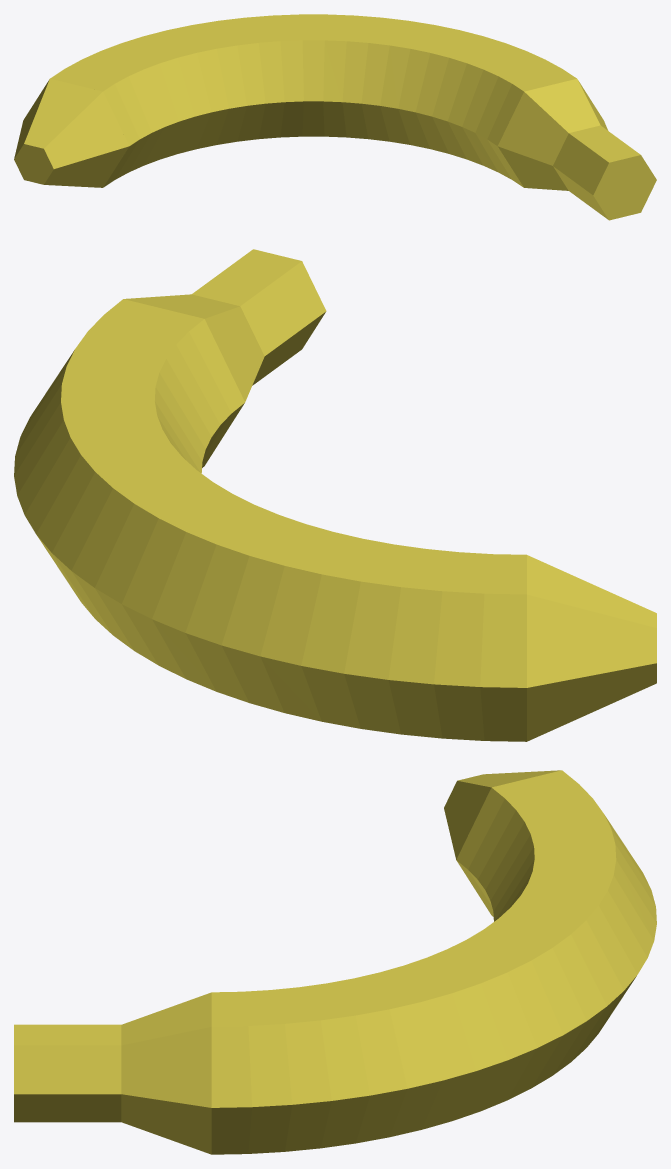
Rendered from banana.glb.
The picture shows the model from 3 angles, top to bottom: view 1: azimuth 30°, elevation 25°; view 2: azimuth 150°, elevation 25°; view 3: azimuth 270°, elevation 25°; orthographic projection. The views are drawn at different scales.
Visible parts, largest first — view 1: Mesh_Mesh_head_geo.001_lambert2SG.001; view 2: Mesh_Mesh_head_geo.001_lambert2SG.001; view 3: Mesh_Mesh_head_geo.001_lambert2SG.001.
Part boxes in pixels (<box>): Mesh_Mesh_head_geo.001_lambert2SG.001: <box>14,14,656,220</box>; Mesh_Mesh_head_geo.001_lambert2SG.001: <box>14,249,656,741</box>; Mesh_Mesh_head_geo.001_lambert2SG.001: <box>14,770,656,1154</box>.
Size of the model in its own units: 47.2 by 9 by 40.99.
